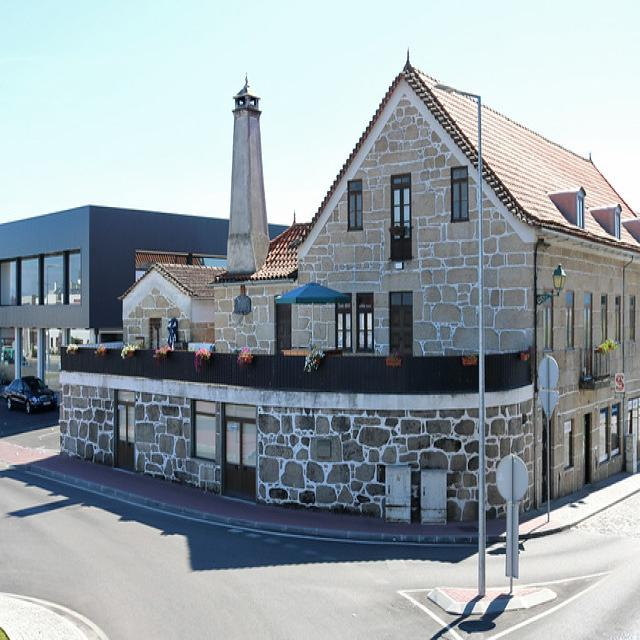building: (114, 55, 640, 524)
